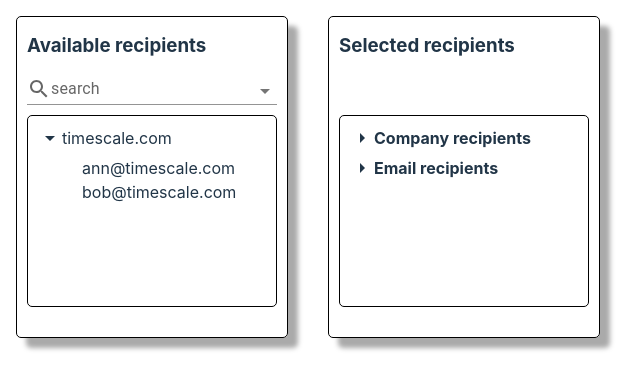
Scenario: Recipients Component › adds a new recipient when enter key is pressed
The image size is (630, 368).
Step 1. Type "hi@hi.com" into the dropdown labelled "search" → (124, 90), box [27, 76, 221, 104]
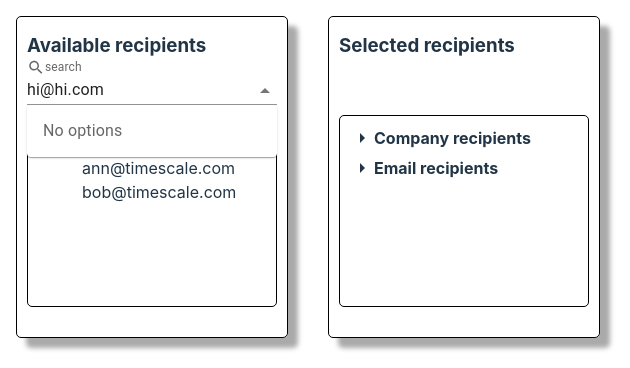
Step 2. Press Enter in the dropdown labelled "search", box [27, 76, 221, 104]
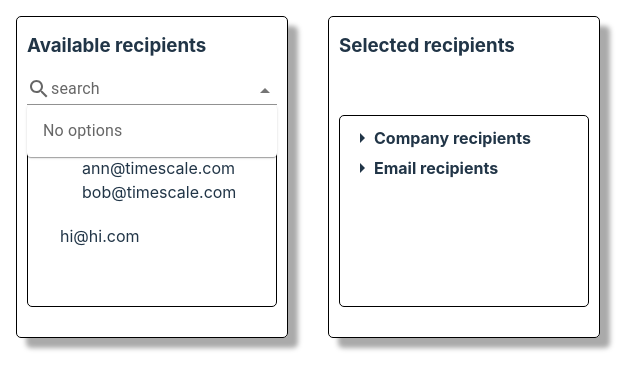
Expected: the list item "hi@hi.com" is shown, [60, 226, 140, 246]
